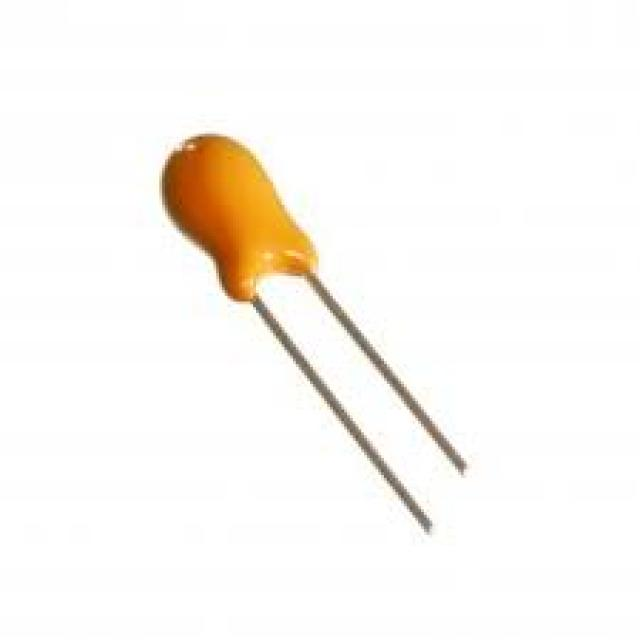Capacitor: (148, 136, 348, 322)
